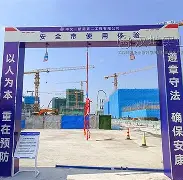safety belt: (80, 99, 96, 142)
